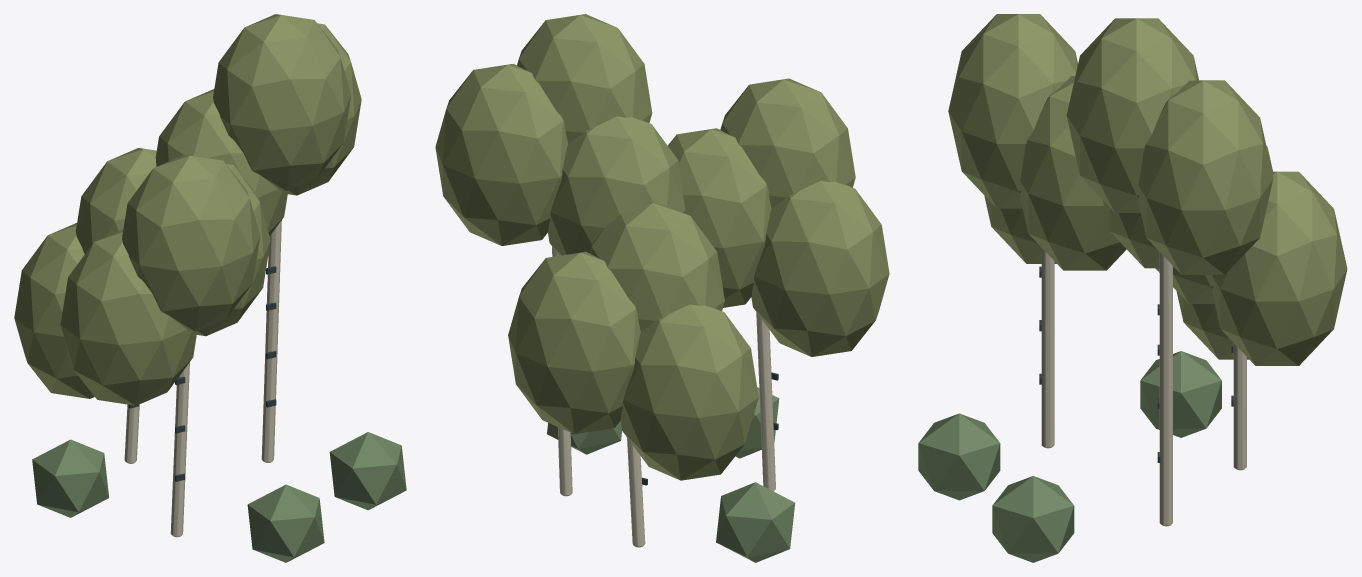
The model's file is BirchScrub.glb.
3 views of the same model, side by side, from view 1: azimuth 30°, elevation 25°; view 2: azimuth 150°, elevation 25°; view 3: azimuth 270°, elevation 25° (orthographic). The views are drawn at different scales.
Visible parts, largest first — view 1: Birch crown.002, Birch crown.005, Birch crown, Birch crown.006, Birch crown.003, Ground scrub, Ground scrub.001, Ground scrub.002, Birch crown.008, Birch trunk.001, Birch crown.004, Birch crown.001 (+2 smaller); view 2: Birch crown.006, Birch crown, Birch crown.004, Birch crown.007, Birch crown.003, Birch crown.002, Birch crown.005, Birch crown.008, Birch crown.001, Ground scrub, Birch trunk, Birch trunk.002 (+3 smaller); view 3: Birch crown.004, Birch crown.007, Birch crown.005, Birch crown.002, Birch crown.001, Ground scrub.002, Ground scrub.001, Ground scrub, Birch trunk.001, Birch trunk, Birch crown, Birch crown.003 (+3 smaller).
Boxes of the visible parts, x1=… form: Birch crown.002: x1=122, y1=154, x2=260, y2=331; Birch crown.005: x1=213, y1=14, x2=351, y2=190; Birch crown: x1=60, y1=229, x2=197, y2=405; Birch crown.006: x1=14, y1=223, x2=94, y2=398; Birch crown.003: x1=155, y1=89, x2=288, y2=235; Ground scrub: x1=32, y1=439, x2=108, y2=517; Ground scrub.001: x1=329, y1=432, x2=406, y2=510; Ground scrub.002: x1=247, y1=484, x2=324, y2=562; Birch crown.008: x1=75, y1=148, x2=156, y2=253; Birch trunk.001: x1=261, y1=220, x2=281, y2=462; Birch crown.004: x1=288, y1=23, x2=361, y2=195; Birch crown.001: x1=197, y1=164, x2=270, y2=336; Birch crown.006: x1=620, y1=304, x2=758, y2=480; Birch crown: x1=751, y1=181, x2=889, y2=356; Birch crown.004: x1=435, y1=64, x2=568, y2=245; Birch crown.007: x1=508, y1=252, x2=640, y2=434; Birch crown.003: x1=548, y1=116, x2=685, y2=255; Birch crown.002: x1=720, y1=78, x2=855, y2=208; Birch crown.005: x1=517, y1=14, x2=652, y2=143; Birch crown.008: x1=589, y1=202, x2=724, y2=331; Birch crown.001: x1=668, y1=128, x2=771, y2=307; Ground scrub: x1=716, y1=482, x2=795, y2=562; Birch trunk: x1=756, y1=312, x2=775, y2=491; Birch trunk.002: x1=627, y1=438, x2=645, y2=547; Birch crown.004: x1=1138, y1=80, x2=1273, y2=274; Birch crown.007: x1=1212, y1=171, x2=1347, y2=365; Birch crown.005: x1=1066, y1=18, x2=1198, y2=212; Birch crown.002: x1=948, y1=14, x2=1077, y2=208; Birch crown.001: x1=1020, y1=76, x2=1126, y2=270; Ground scrub.002: x1=918, y1=413, x2=1000, y2=500; Ground scrub.001: x1=992, y1=476, x2=1074, y2=562; Ground scrub: x1=1140, y1=351, x2=1221, y2=437; Birch trunk.001: x1=1159, y1=252, x2=1172, y2=526; Birch trunk: x1=1041, y1=248, x2=1054, y2=448; Birch crown: x1=984, y1=195, x2=1056, y2=263; Birch crown.003: x1=1102, y1=200, x2=1174, y2=268.
Bounding box in the file's own units: 6.09 × 7.8 × 5.8.
